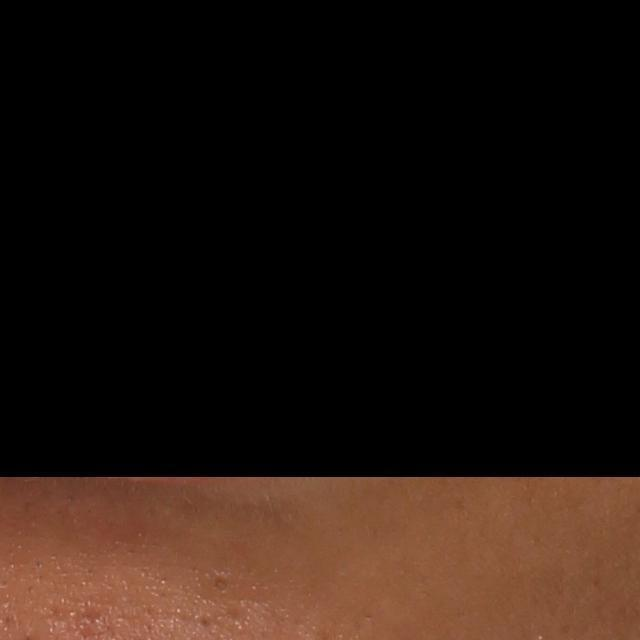atrophic_scar: (78, 599, 110, 625), (196, 610, 216, 629)
comedo: (212, 569, 233, 592)
